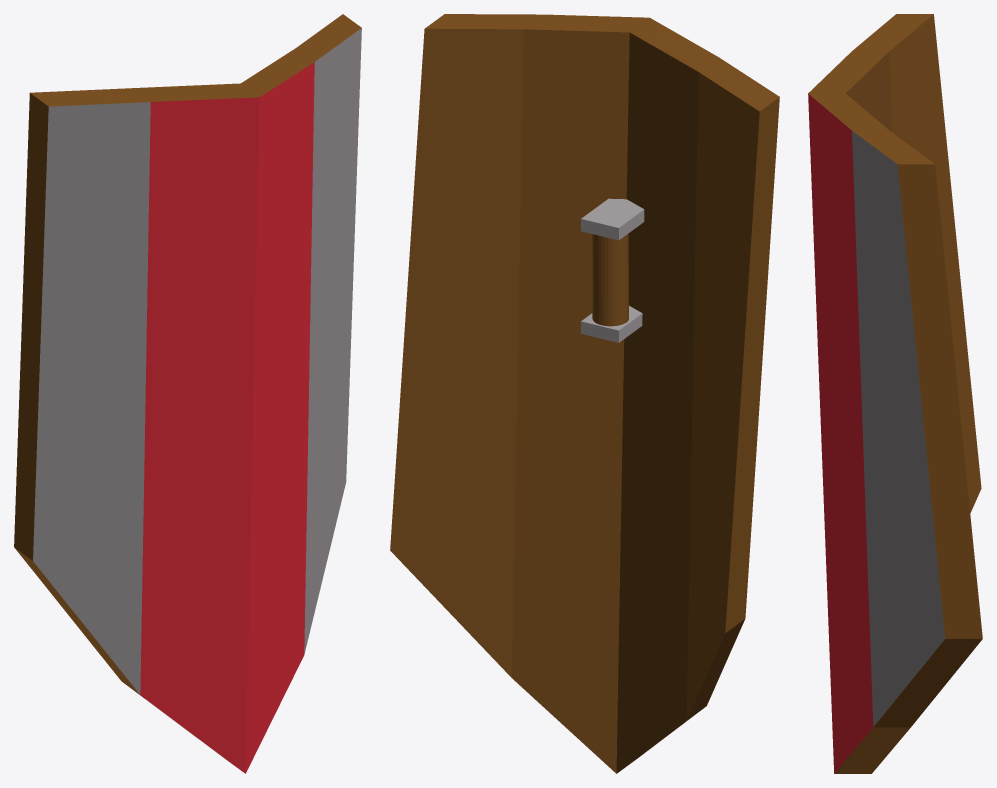
File: Shield.fbx
3 views of the same model, side by side, from view 1: azimuth 30°, elevation 25°; view 2: azimuth 150°, elevation 25°; view 3: azimuth 270°, elevation 25° (orthographic). The views are drawn at different scales.
Visible parts, largest first — view 1: Shield; view 2: Shield; view 3: Shield.
Boxes of the visible parts, left/top/right/bottom form: Shield: left=14, top=14, right=361, bottom=773; Shield: left=390, top=14, right=779, bottom=773; Shield: left=808, top=14, right=982, bottom=773.
Size of the model in its own units: 49.12 by 100 by 23.25.
